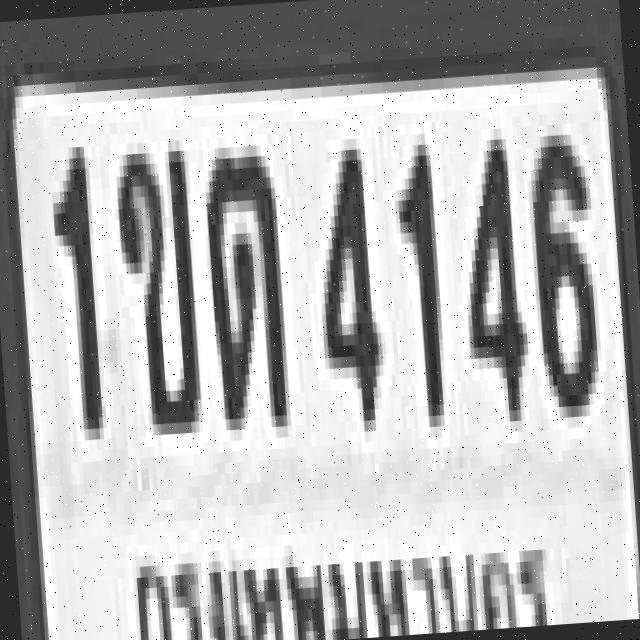1: (44, 136, 99, 431), (389, 133, 444, 417)
11KhorKhai: (110, 140, 198, 426)
30TorTao: (198, 133, 287, 420)
4: (451, 128, 524, 412), (308, 138, 381, 422)
6: (524, 122, 597, 408)
